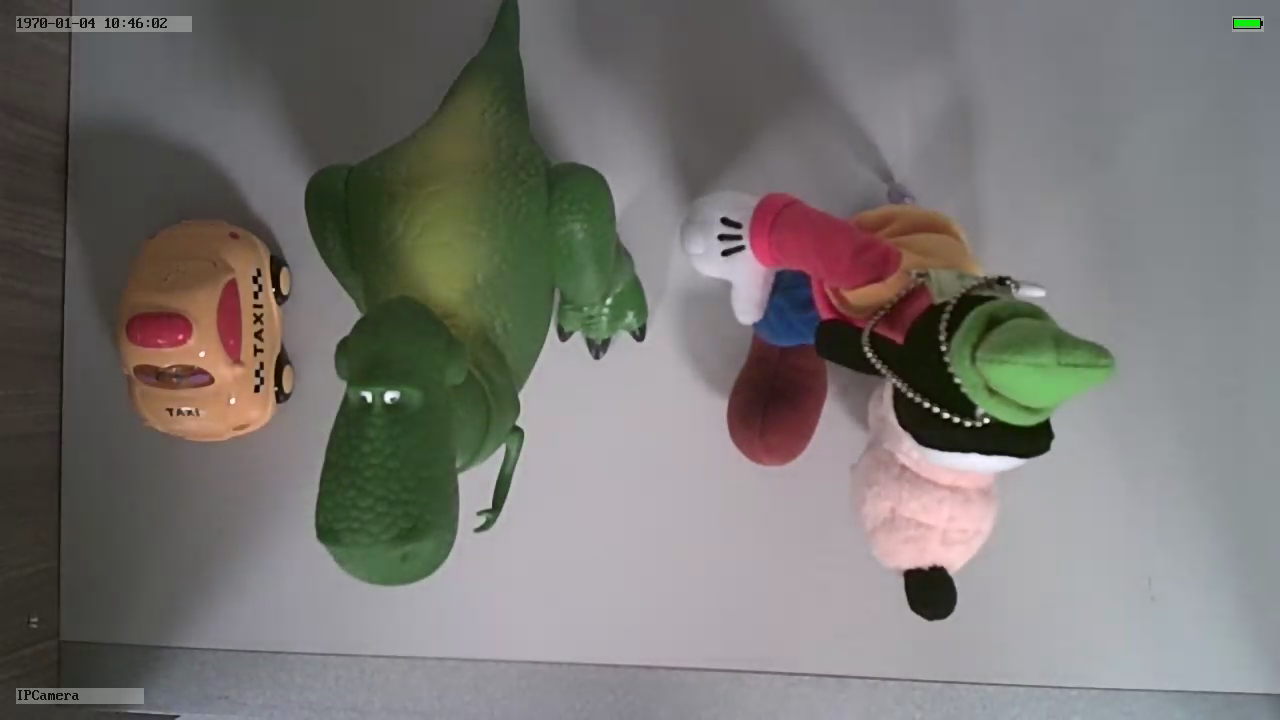goofy: (683, 174, 1119, 626)
